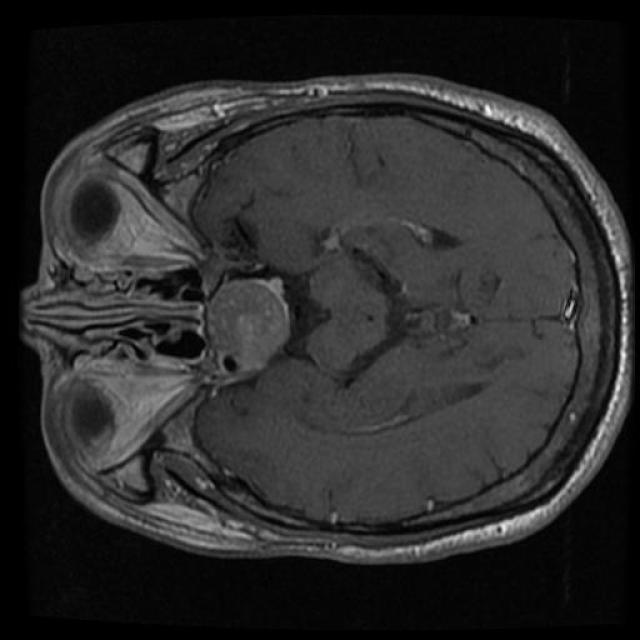Pituitary: (207, 279, 289, 371)
